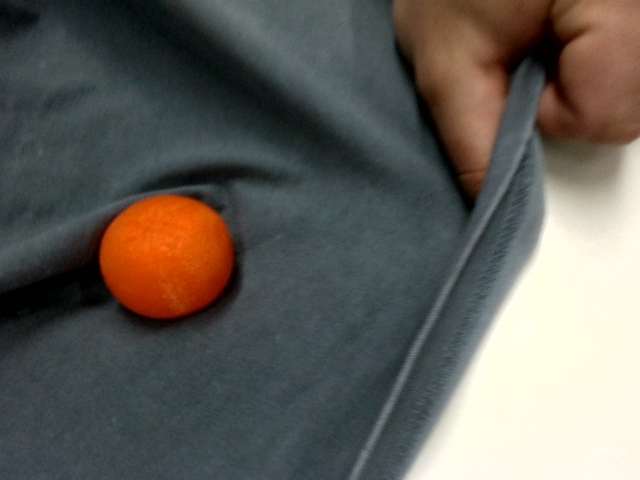orange: (81, 173, 253, 340)
